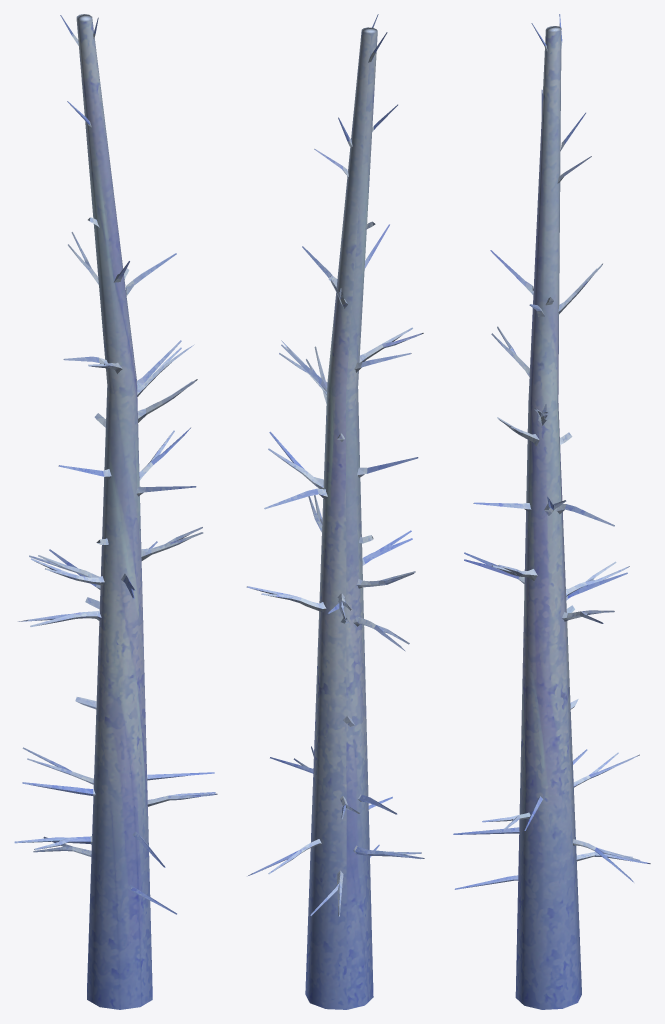
File: SM_Enviro_Tree01_Dark.fbx
3 renders of one model, left to right at view 1: azimuth 30°, elevation 25°; view 2: azimuth 150°, elevation 25°; view 3: azimuth 270°, elevation 25°, orthographic. The views are drawn at different scales.
Visible parts, largest first — view 1: SM_Enviro_Tree01_Dark; view 2: SM_Enviro_Tree01_Dark; view 3: SM_Enviro_Tree01_Dark.
Part boxes in pixels (left/top/right/bottom): SM_Enviro_Tree01_Dark: left=14, top=14, right=217, bottom=1009; SM_Enviro_Tree01_Dark: left=246, top=14, right=424, bottom=1009; SM_Enviro_Tree01_Dark: left=453, top=14, right=650, bottom=1009.
Bounding box in the file's own units: 539 × 2867 × 535.
